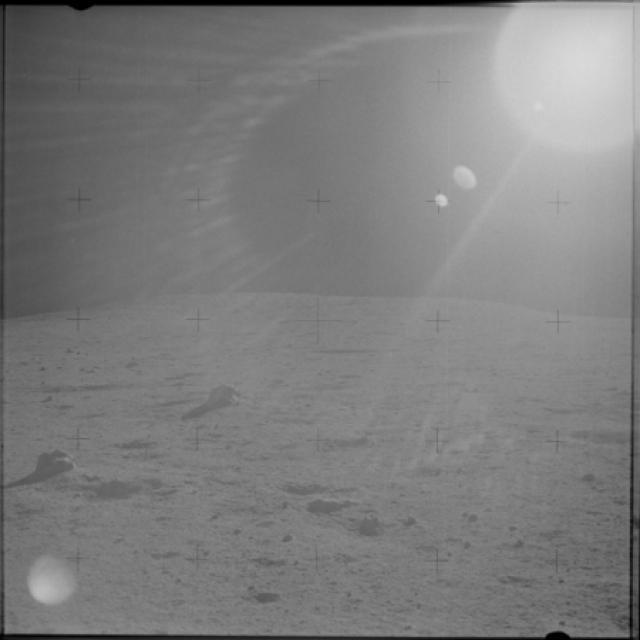crater: (562, 422, 627, 460)
rock: (26, 441, 90, 477), (197, 377, 247, 414), (301, 489, 356, 515), (348, 508, 388, 540)
